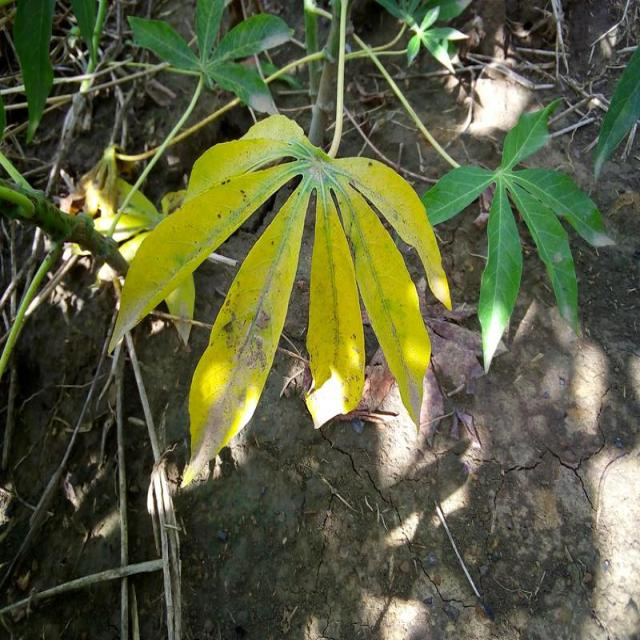Mosaico: (142, 102, 455, 468)
